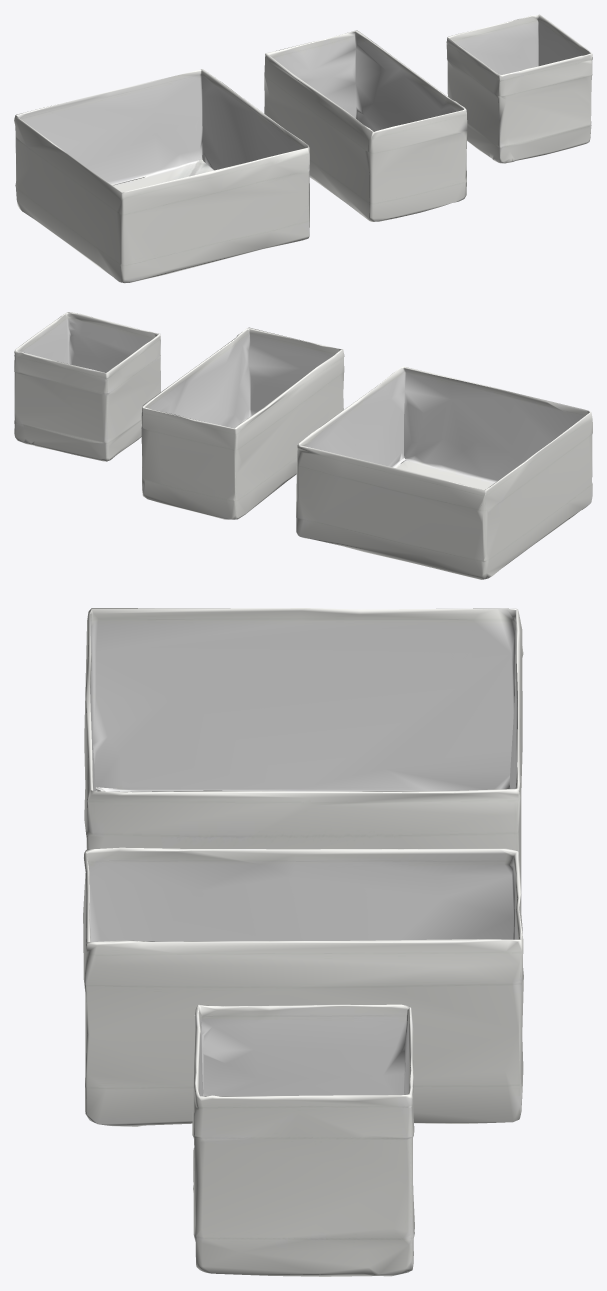
3 renders of one model, top to bottom at view 1: azimuth 30°, elevation 25°; view 2: azimuth 150°, elevation 25°; view 3: azimuth 270°, elevation 25°, orthographic. The views are drawn at different scales.
Visible parts, largest first — view 1: ASY_LPT01_00428549_S01_NV01, ASY_LPT02_00428549_S01_NV01, ASY_LPT03_00428549_S01_NV01; view 2: ASY_LPT01_00428549_S01_NV01, ASY_LPT02_00428549_S01_NV01, ASY_LPT03_00428549_S01_NV01; view 3: ASY_LPT01_00428549_S01_NV01, ASY_LPT02_00428549_S01_NV01, ASY_LPT03_00428549_S01_NV01.
Part boxes in pixels (bbox=[...]): ASY_LPT01_00428549_S01_NV01: bbox=[14, 69, 309, 283]; ASY_LPT02_00428549_S01_NV01: bbox=[264, 30, 467, 221]; ASY_LPT03_00428549_S01_NV01: bbox=[446, 14, 592, 163]; ASY_LPT01_00428549_S01_NV01: bbox=[296, 366, 592, 579]; ASY_LPT02_00428549_S01_NV01: bbox=[141, 327, 344, 519]; ASY_LPT03_00428549_S01_NV01: bbox=[14, 312, 160, 461]; ASY_LPT01_00428549_S01_NV01: bbox=[84, 608, 523, 933]; ASY_LPT02_00428549_S01_NV01: bbox=[83, 847, 523, 1126]; ASY_LPT03_00428549_S01_NV01: bbox=[192, 1004, 414, 1276].
Bounding box in the file's own units: 0.743 × 0.1354 × 0.2835.
3 materials, 3 textured.
